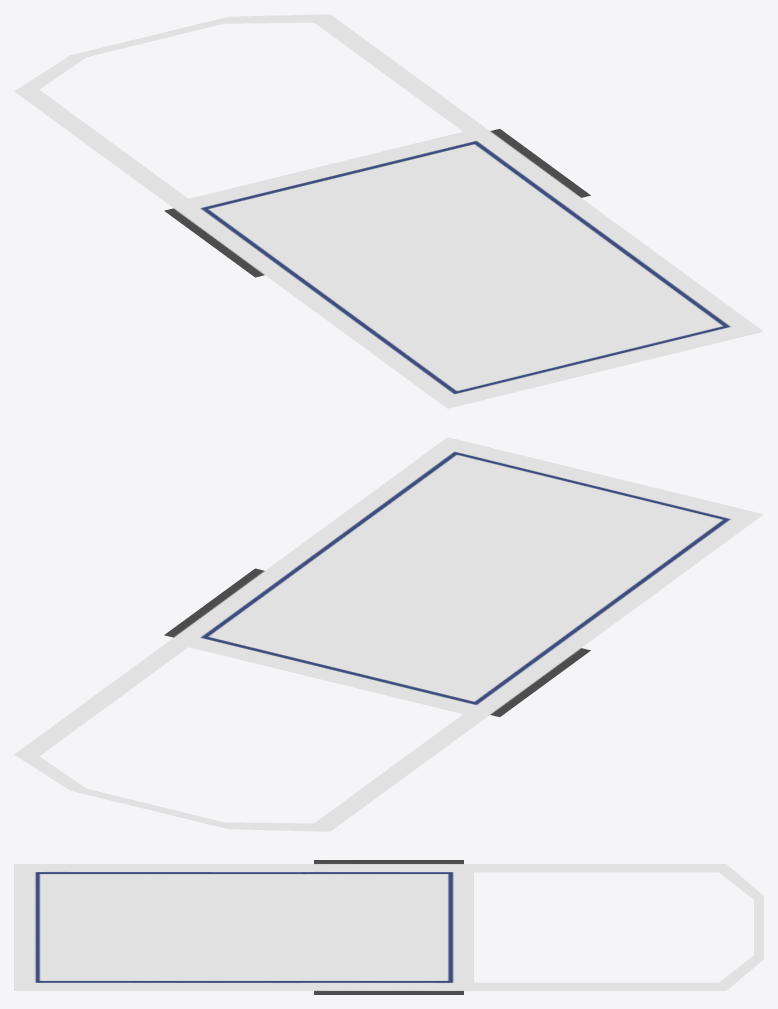
The model's file is Lift_Floor_01_Level_04.fbx.
The picture shows the model from 3 angles, top to bottom: view 1: azimuth 30°, elevation 25°; view 2: azimuth 150°, elevation 25°; view 3: azimuth 270°, elevation 25°; orthographic projection. The views are drawn at different scales.
Parts seen in each view (by area): view 1: Lift_Floor_01_Level_04; view 2: Lift_Floor_01_Level_04; view 3: Lift_Floor_01_Level_04.
Boxes of the visible parts, x1=… form: Lift_Floor_01_Level_04: x1=14, y1=14, x2=763, y2=408; Lift_Floor_01_Level_04: x1=14, y1=437, x2=763, y2=831; Lift_Floor_01_Level_04: x1=14, y1=860, x2=763, y2=994.
Size of the model in its own units: 1700 by 0 by 4000.
